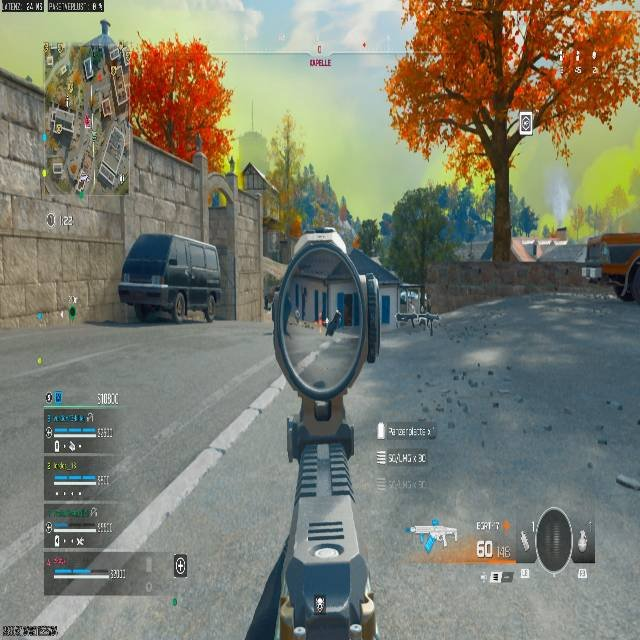player: (329, 309, 342, 335)
